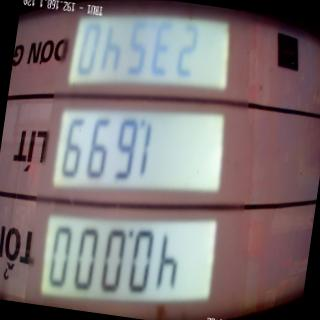screen: (22, 0, 261, 320)
